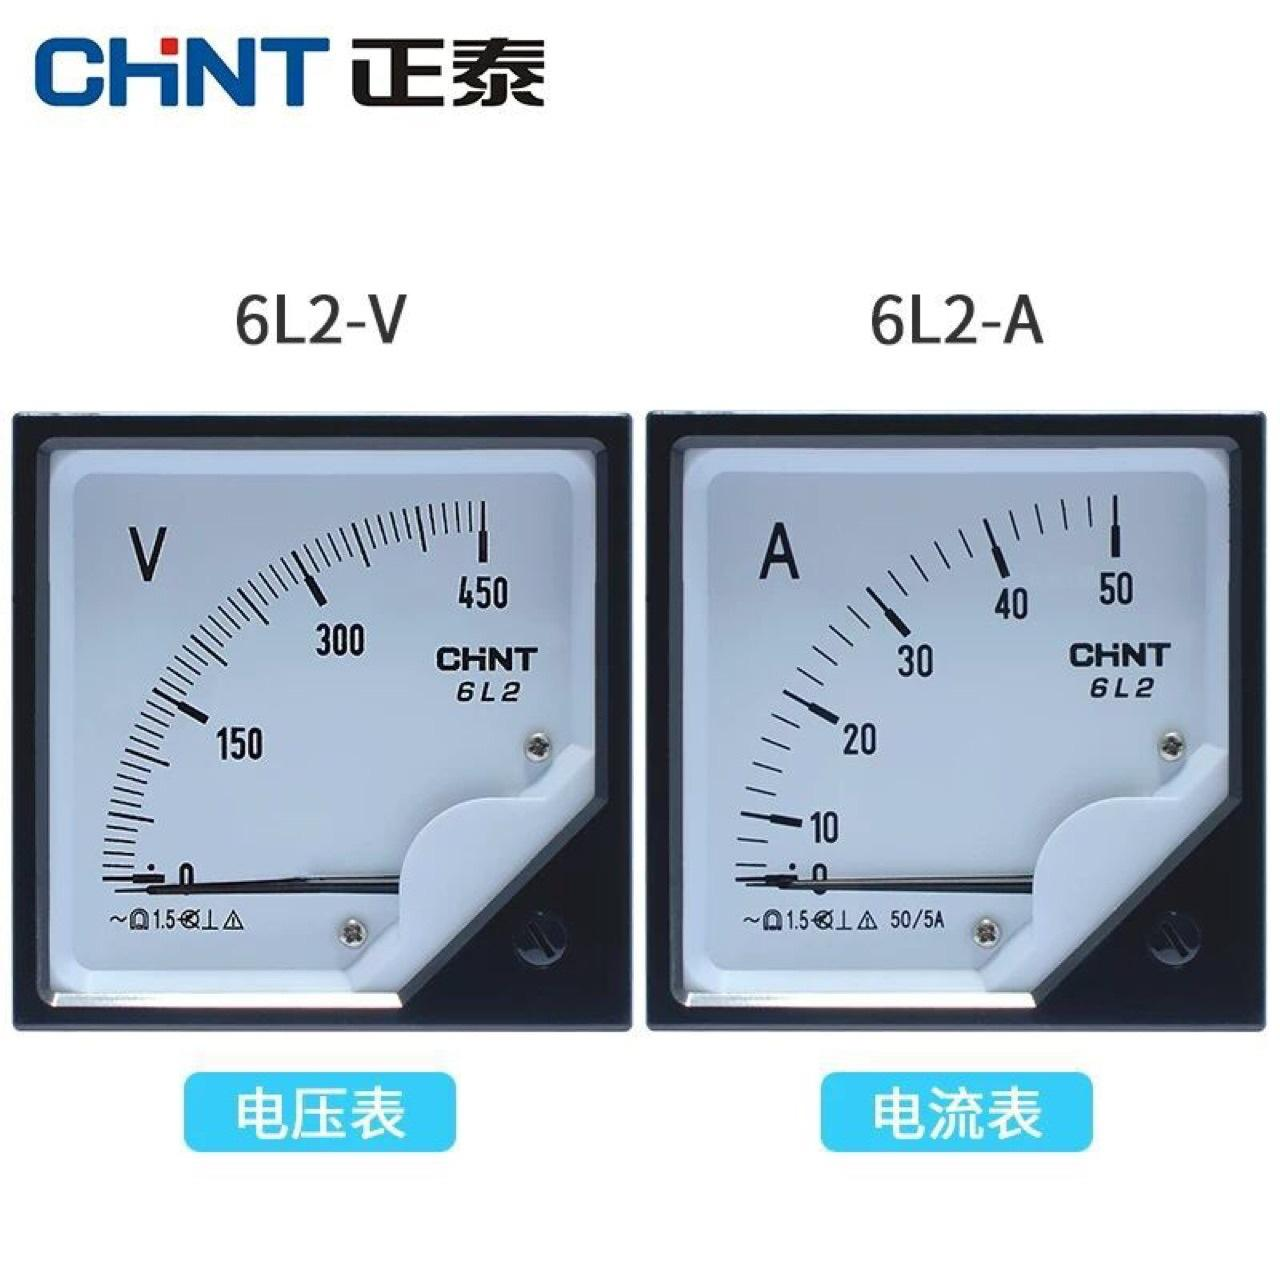pointer: (36, 431, 598, 1017), (678, 433, 1232, 1019)
